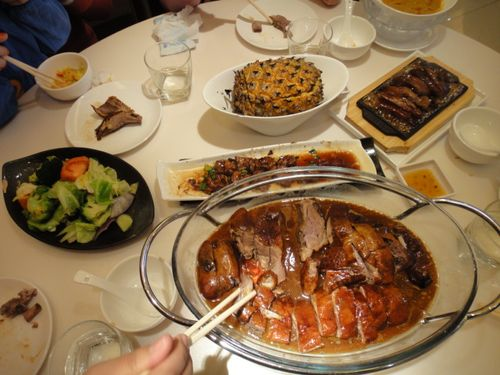food: (183, 169, 487, 367), (4, 137, 148, 249), (167, 139, 384, 203), (199, 44, 353, 134), (352, 46, 467, 144), (66, 78, 156, 152)
